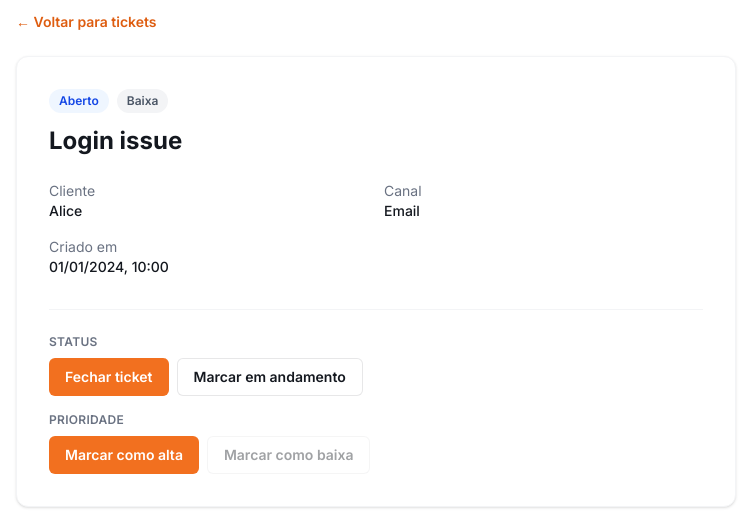
TicketDetail › marks priority as high and updates the UI
Click the button "Marcar como alta" at (124, 455), box [49,436,199,474]
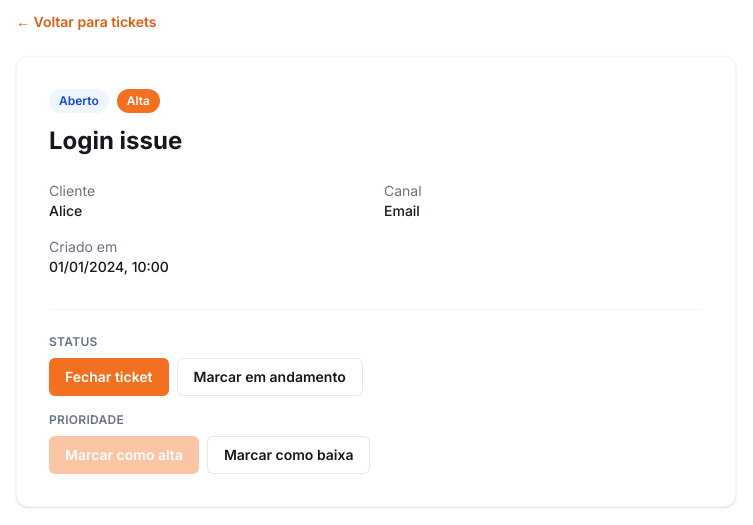
expect the text "Alta" is shown: met, box [117,89,160,113]
